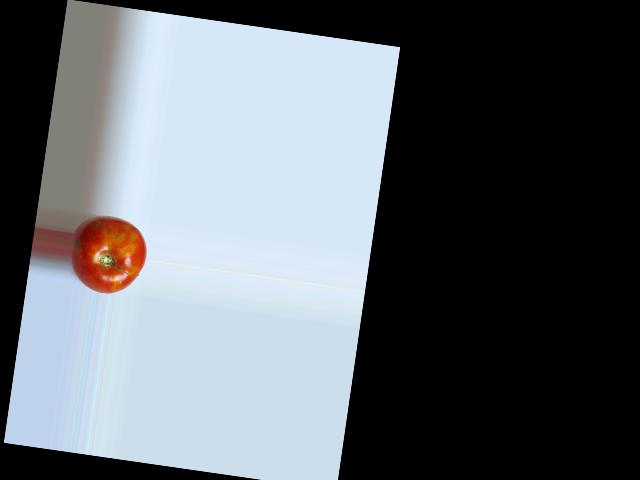tomato: (66, 211, 150, 298)
